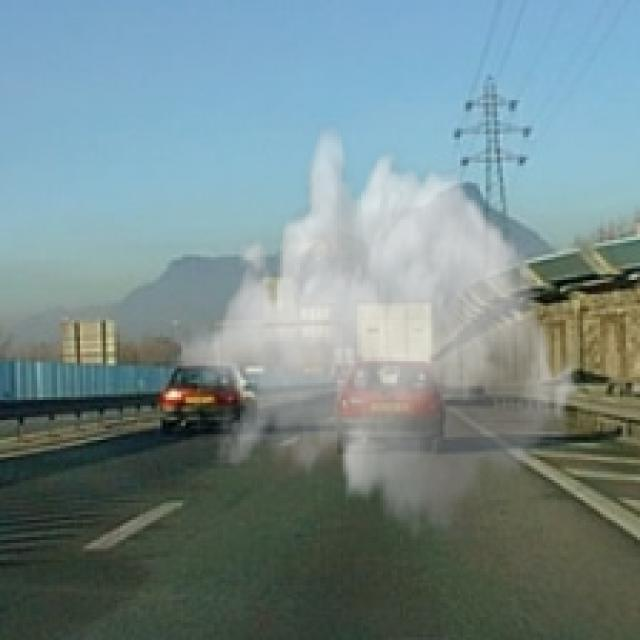Smoke: (175, 120, 580, 546)
